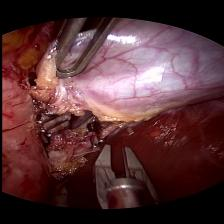Clipper: (90, 144, 161, 212)
Grasper: (46, 14, 116, 79)
